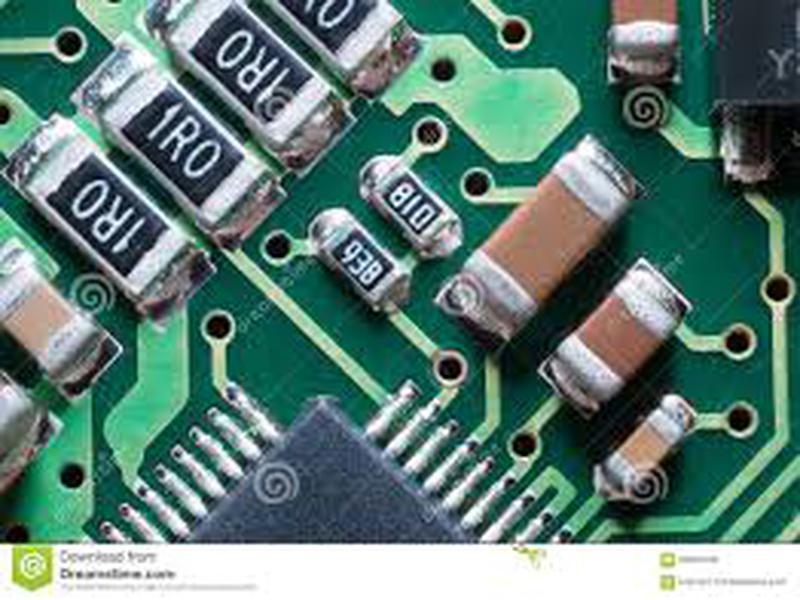SMD capacitor: (471, 151, 634, 313), (561, 259, 700, 397), (3, 267, 95, 376), (608, 406, 688, 490)
SMD resistor: (16, 124, 202, 300), (172, 1, 347, 171), (103, 68, 274, 235), (319, 212, 411, 317), (368, 165, 461, 247)
